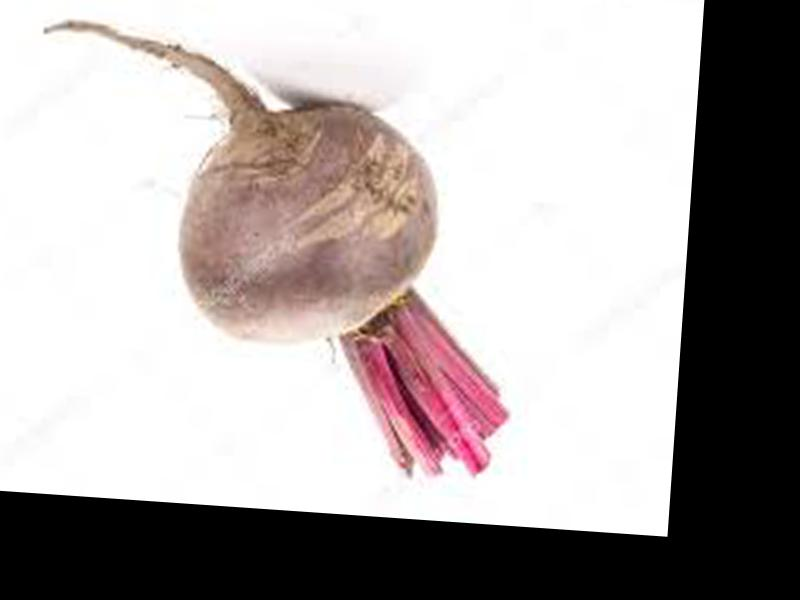Beet: (14, 20, 529, 480)
